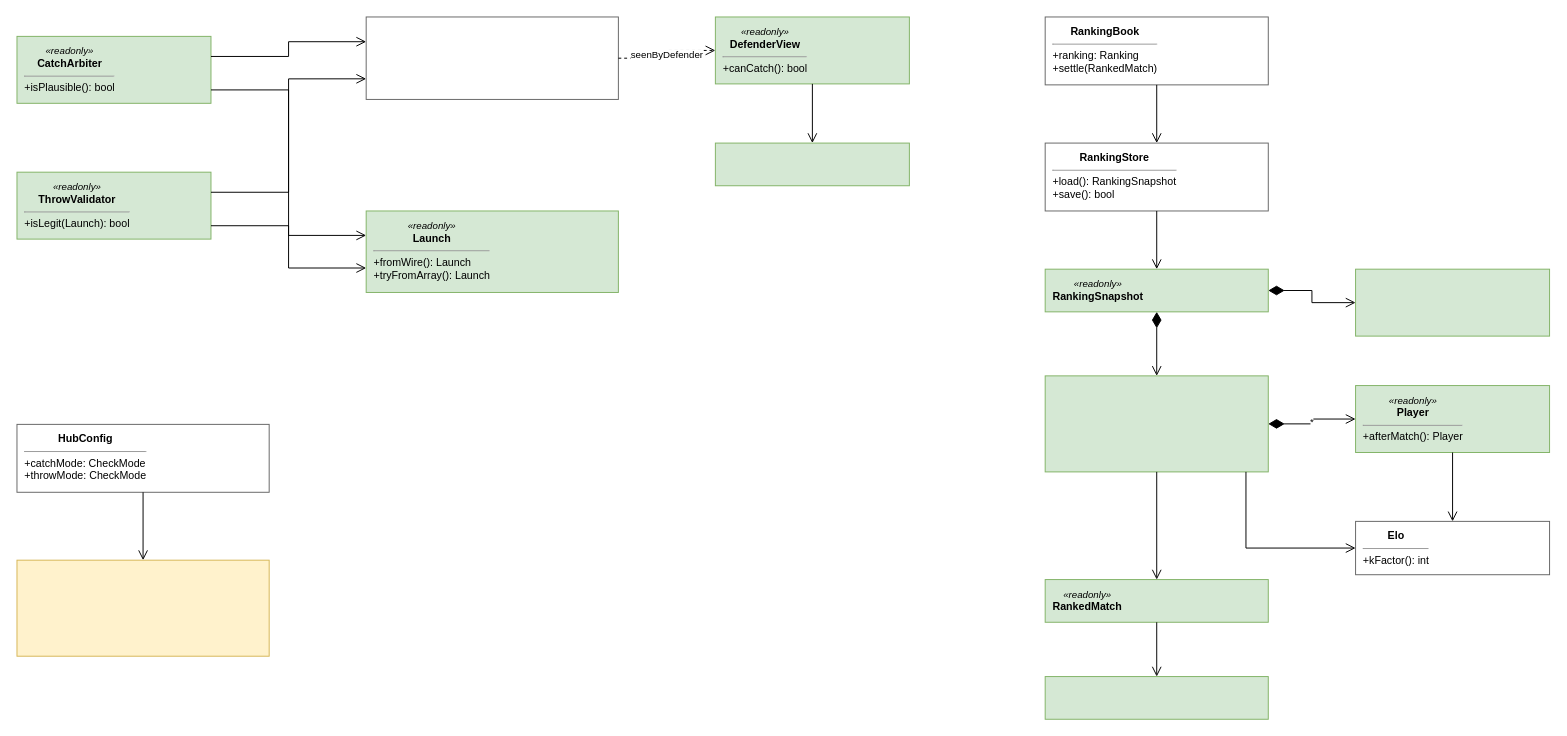
Image size: 1567x736. Some labels were removed from this diagram. Each missing label, with the centre of its shape:
"Hen +step(): void +hasArrived: bool +seenByDefender(): DefenderView" belongs at pixel 491 57.
"«enumeration» CheckMode Enforce Log Off" belongs at pixel 142 607.
"«readonly» MatchOutcome" belongs at pixel 1156 697.
"«readonly» PairLimiter +meet(): Meeting" belongs at pixel 1452 302.
"«readonly» Ranking +record(RankedMatch): Ranking +rankOf(): int +top(): list" belongs at pixel 1156 423.
"«readonly» Reach" belongs at pixel 811 164.
